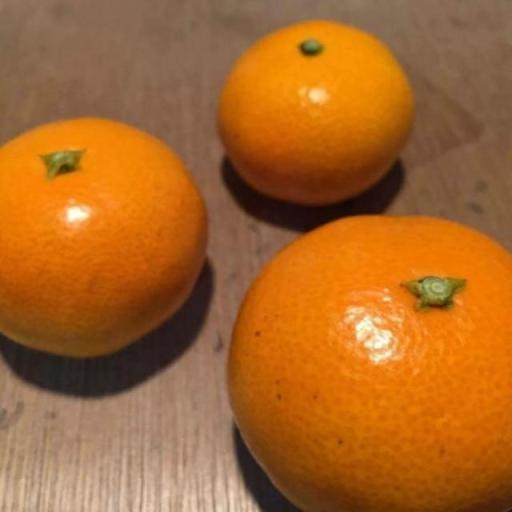fruit: (47, 118, 363, 399), (399, 256, 512, 512), (357, 48, 469, 201)
